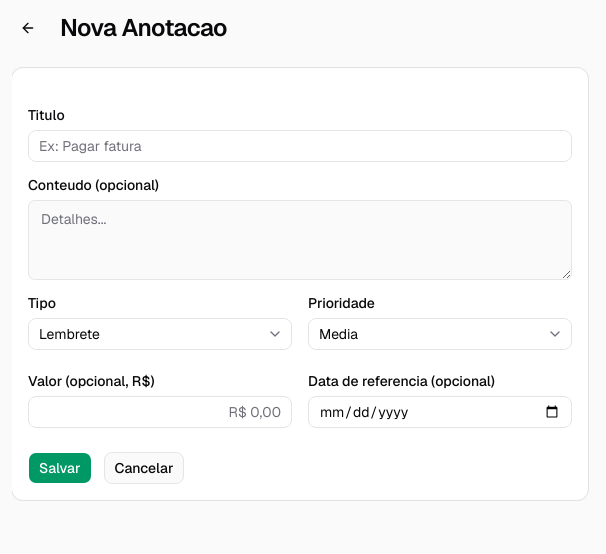
Test case: NovaAnotacao › shows api error message when criar fails
In the field labelled "Titulo": (300, 146) [28,130,572,162], type "Falha"
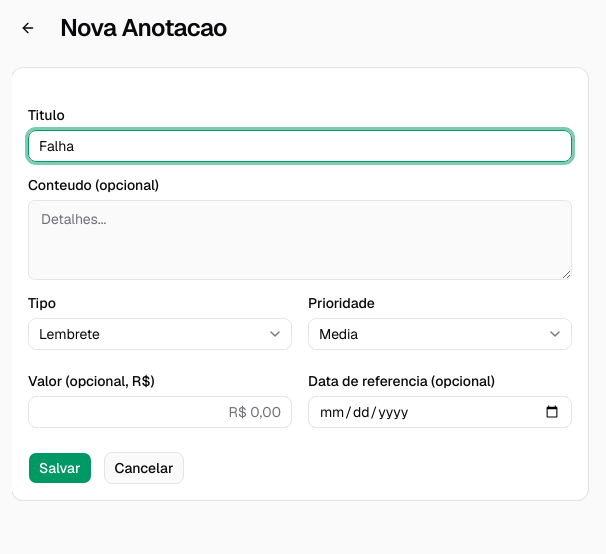
Click the button "Salvar": (60, 468) [28,452,92,484]
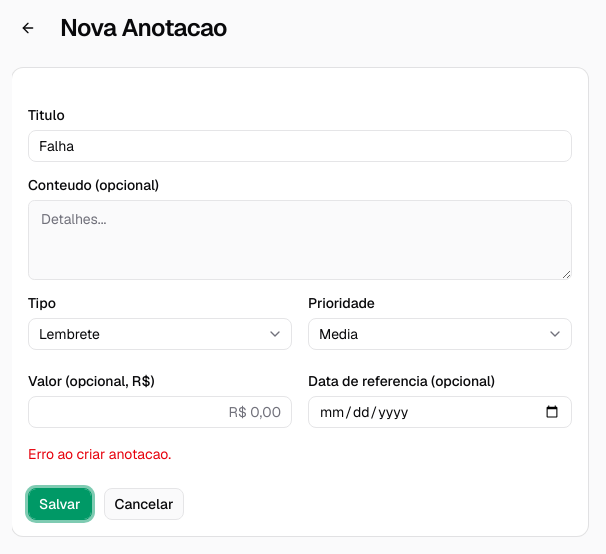
Check: the text "Erro ao criar anotacao." is shown, box [28,445,171,463]
